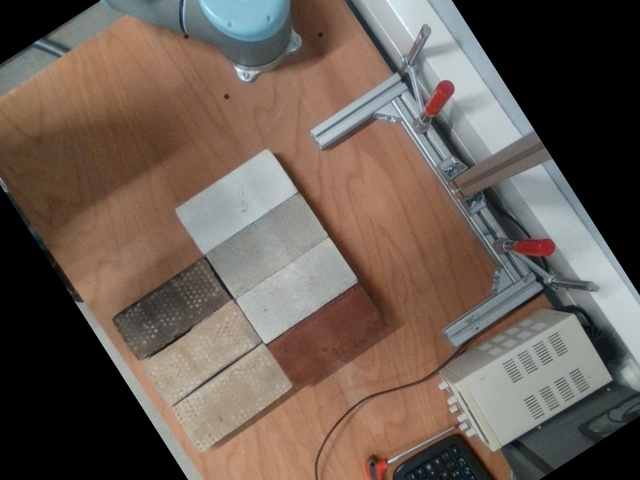brick: (237, 238, 355, 342), (176, 149, 295, 252), (207, 194, 326, 297), (176, 347, 291, 447), (145, 303, 258, 403), (272, 287, 385, 385), (116, 262, 227, 356)
